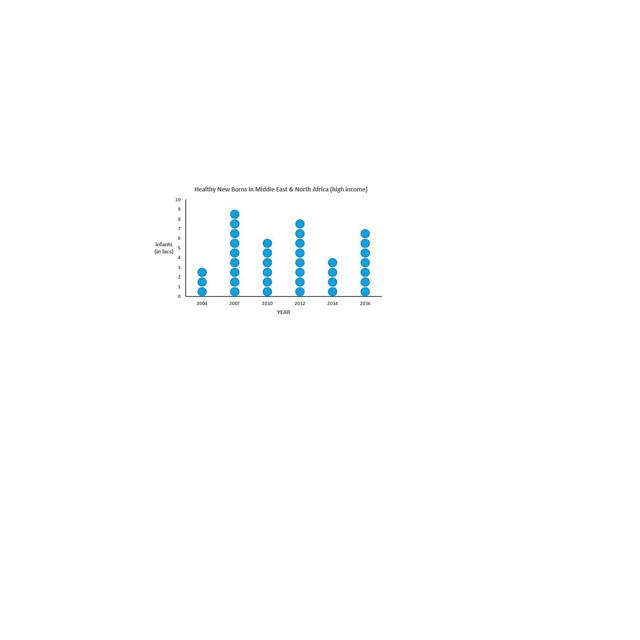Graph: (146, 181, 388, 323)
